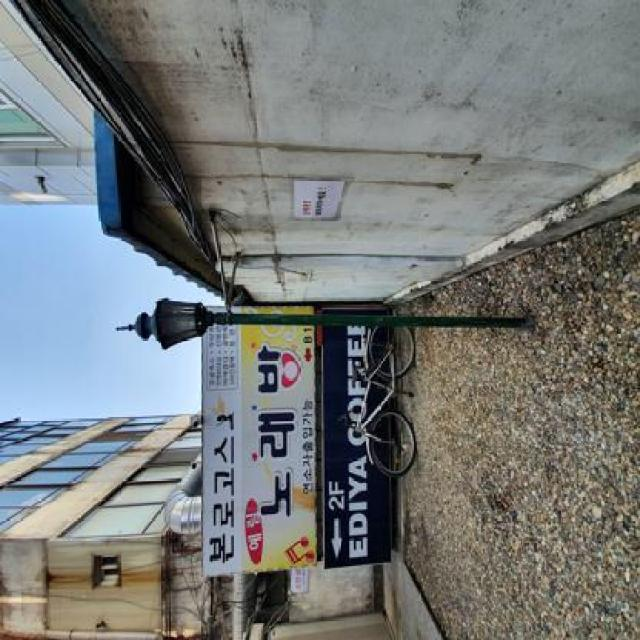pole: (102, 294, 543, 357)
